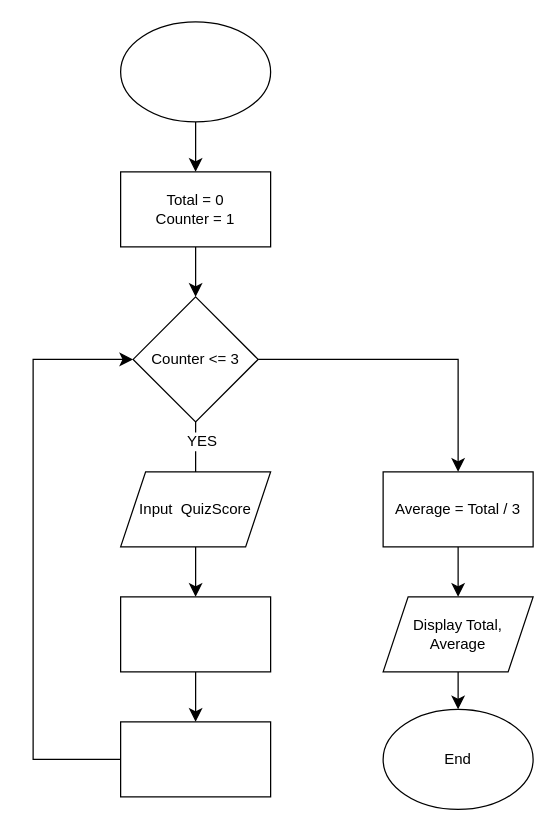
Image size: 555x831. Some labels were removed from this diagram. The box of each missing label's shape, as (x1, y1, x2, y2) in pixels:
Counter = Counter + 1: (119, 721, 271, 797)
Start: (119, 21, 271, 122)
Total = Total + QuizScore: (119, 596, 271, 672)
